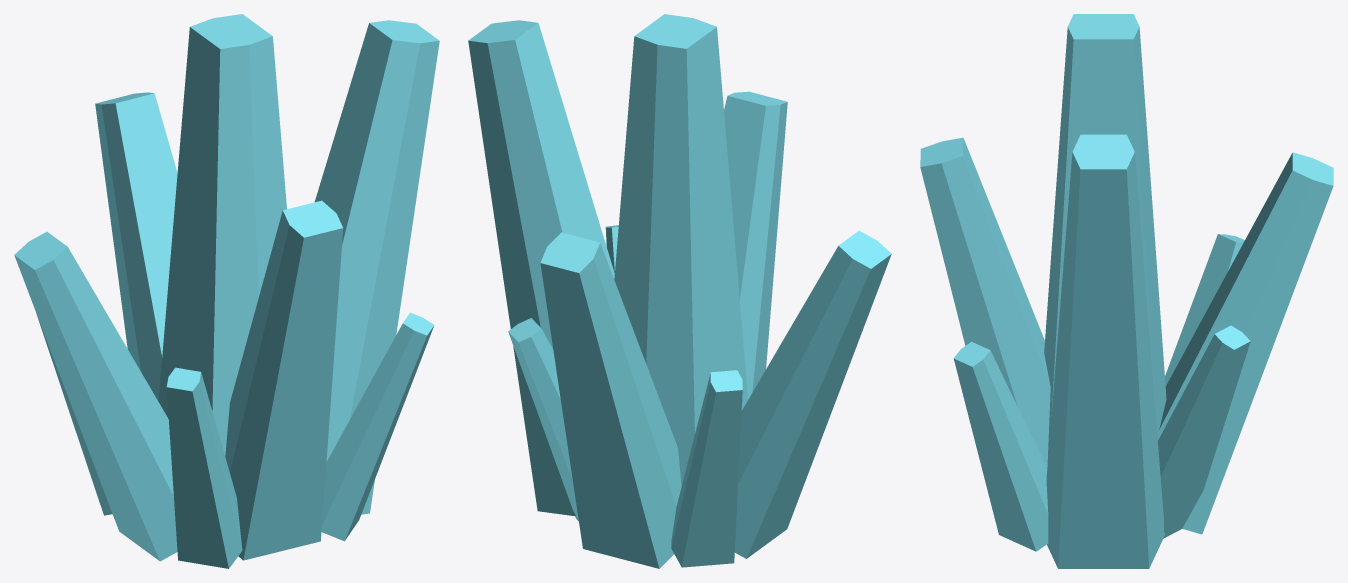
Rendered from Crystals.fbx.
3 views of the same model, side by side, from view 1: azimuth 30°, elevation 25°; view 2: azimuth 150°, elevation 25°; view 3: azimuth 270°, elevation 25° (orthographic).
Visible parts, largest first — view 1: Crystals; view 2: Crystals; view 3: Crystals.
Boxes of the visible parts, <box> form: Crystals: <box>14,14,439,568</box>; Crystals: <box>468,14,891,568</box>; Crystals: <box>920,14,1333,568</box>.
Size of the model in its own units: 53.15 by 62.32 by 47.8.
